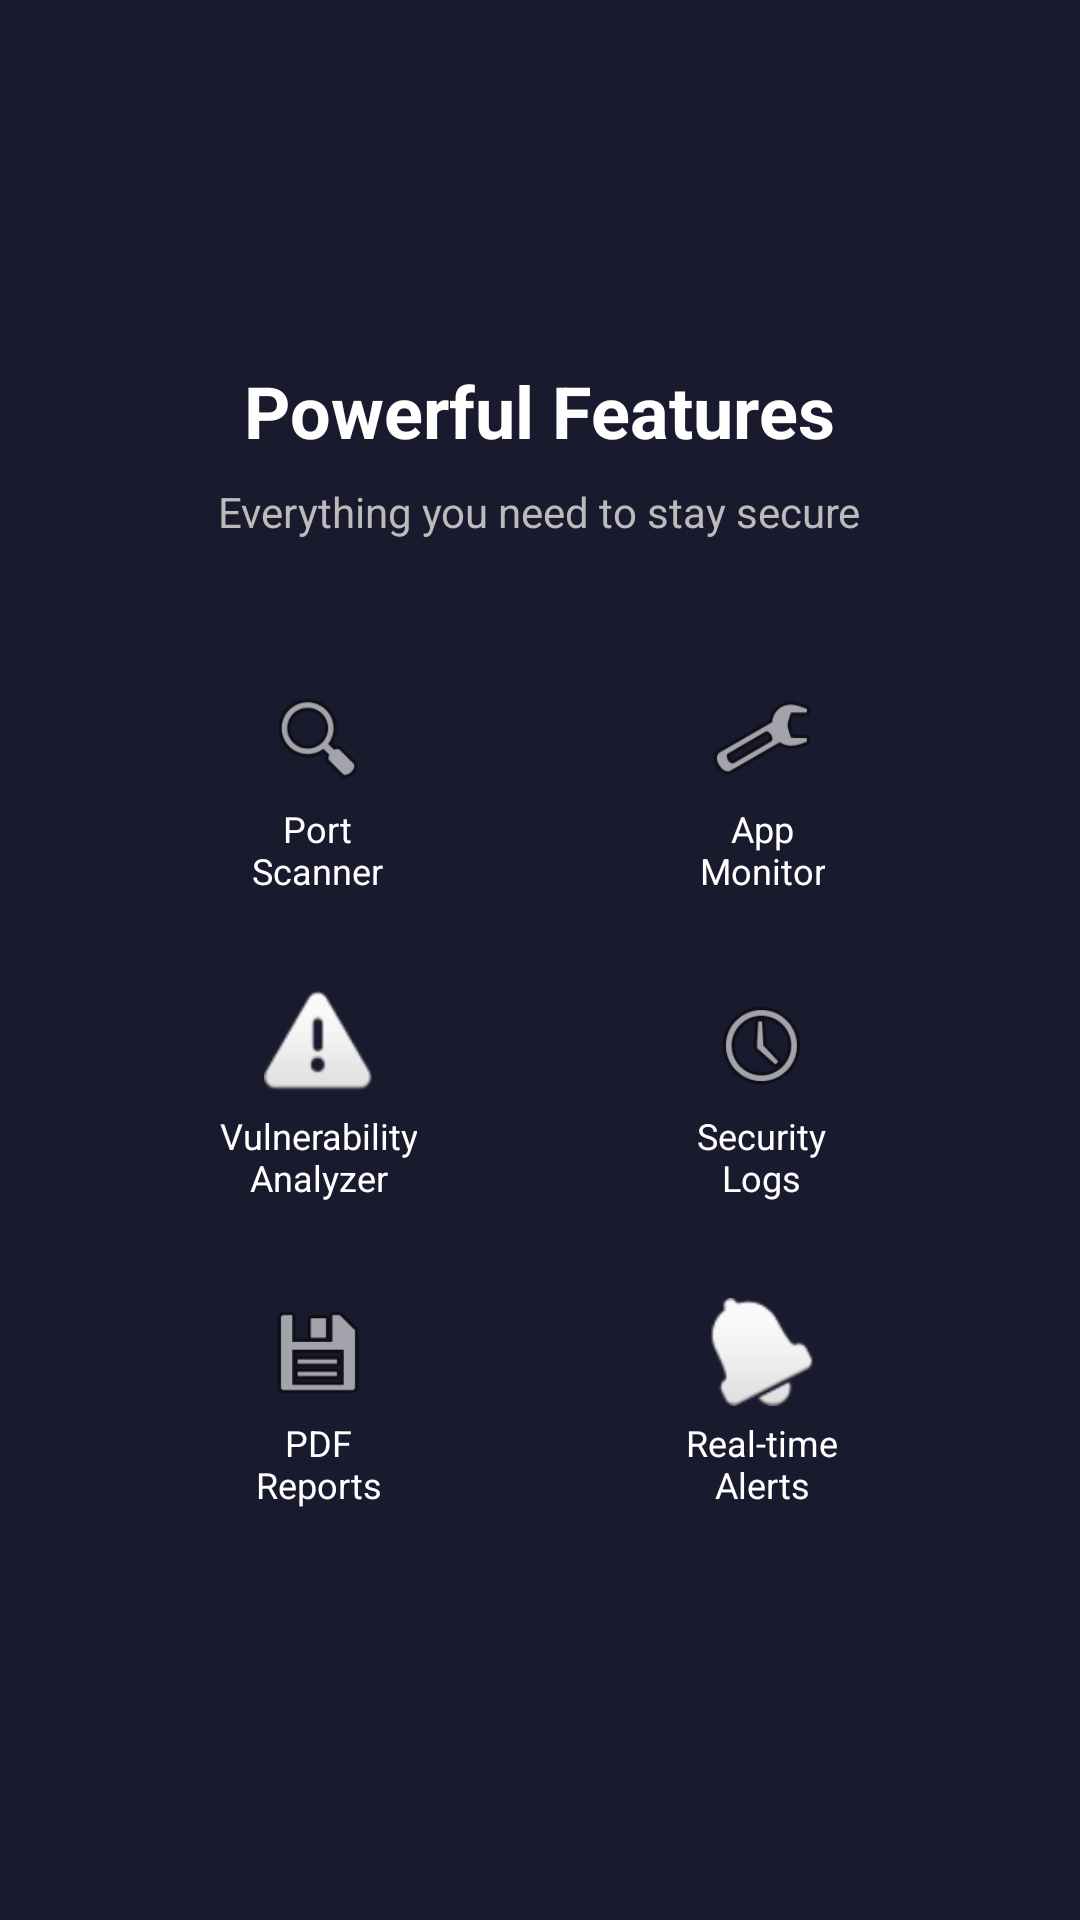

Point at icon controls on the screen. Image size 1080 x 1920, points as point (x, y).
alert: point (318, 1040)
manage: point (762, 738)
popup reminder: point (762, 1352)
recent history: point (762, 1045)
save: point (318, 1352)
search: point (317, 738)
